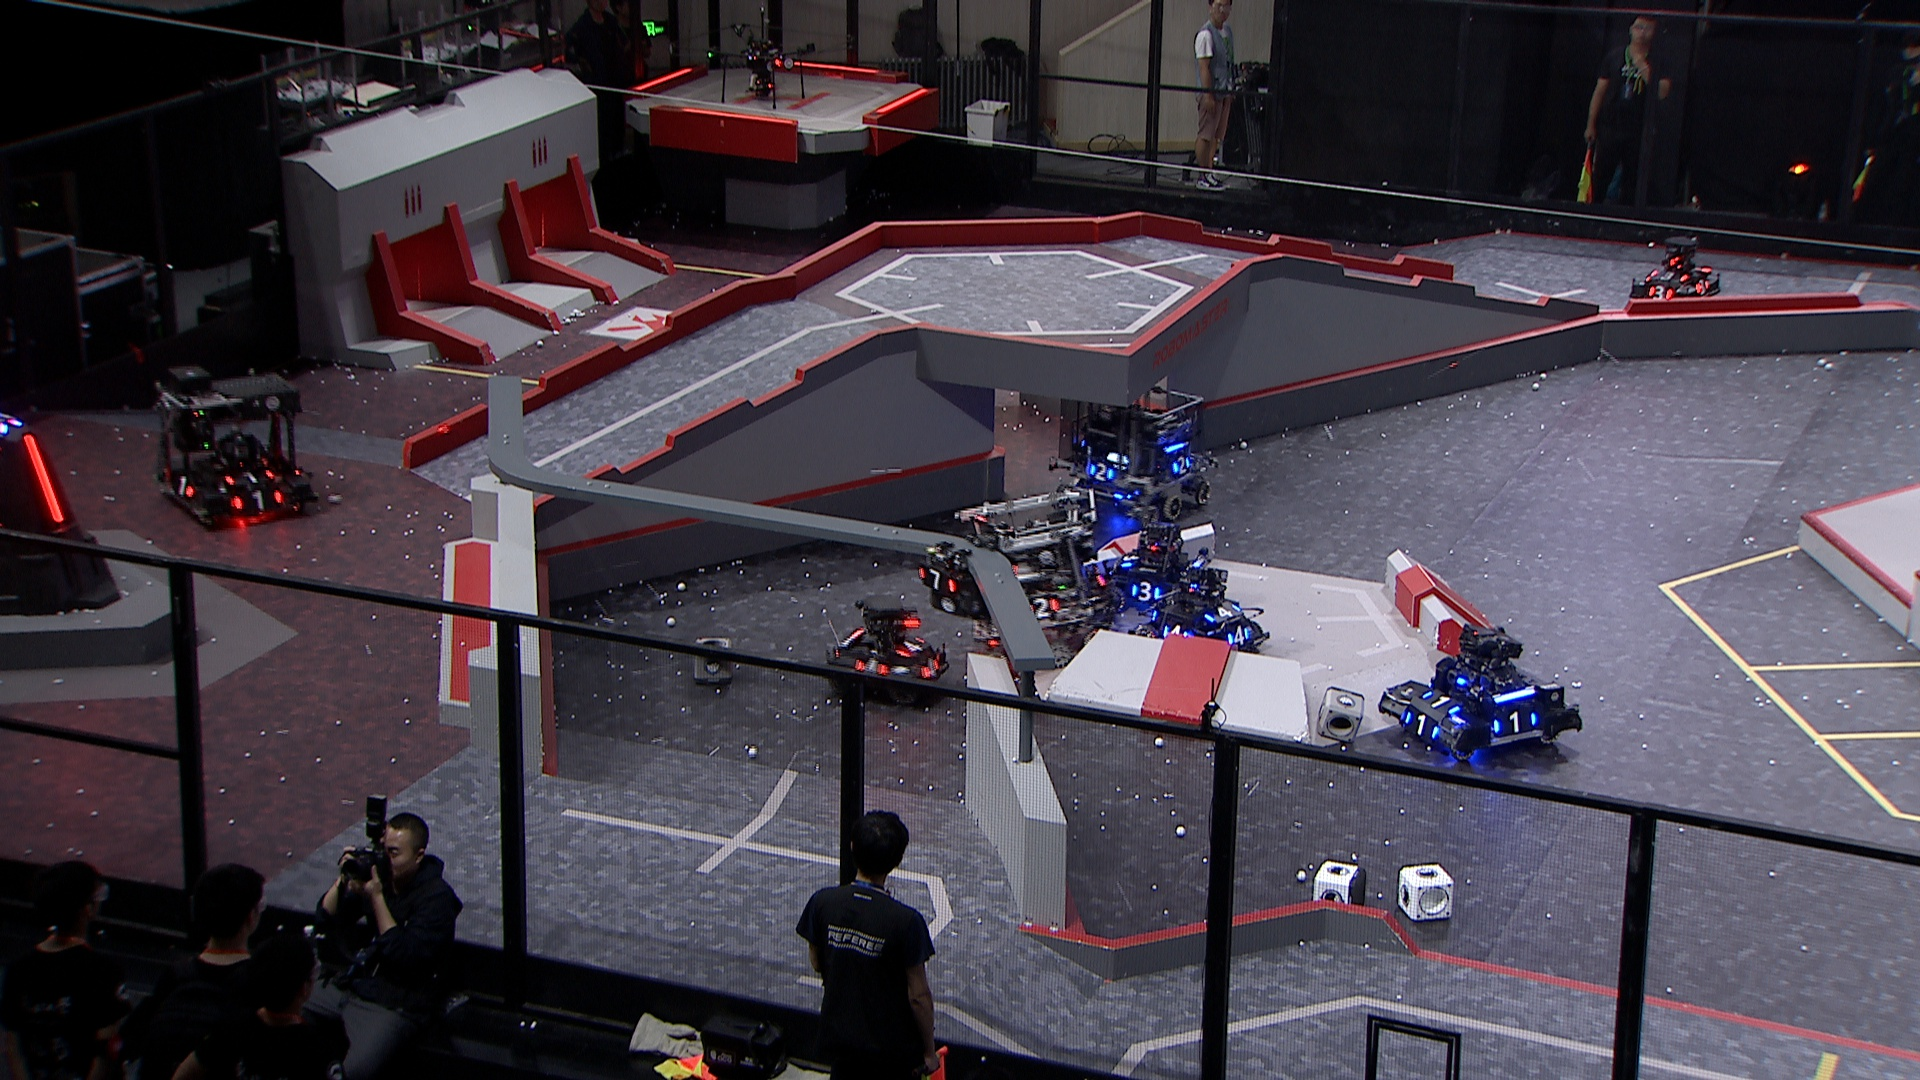armor: (20, 433, 71, 522), (1416, 684, 1466, 717), (225, 489, 284, 516), (219, 463, 280, 488), (1490, 707, 1539, 737), (915, 564, 960, 597), (1404, 708, 1443, 742), (1025, 593, 1060, 622), (891, 632, 928, 659), (1204, 599, 1242, 624), (855, 657, 891, 680), (916, 650, 944, 680), (1129, 579, 1162, 604), (1159, 622, 1192, 647), (169, 471, 196, 500), (1648, 266, 1688, 285), (1087, 462, 1117, 485), (1225, 624, 1251, 647), (1647, 282, 1676, 302), (1168, 454, 1192, 477), (1120, 550, 1141, 570), (1693, 277, 1712, 297)
car: (1377, 621, 1588, 767), (152, 368, 316, 527), (955, 491, 1106, 655), (1055, 381, 1216, 524), (825, 593, 951, 700), (1130, 560, 1269, 655), (1091, 516, 1215, 617), (1626, 232, 1722, 305)
watcher: (913, 516, 1021, 624)
